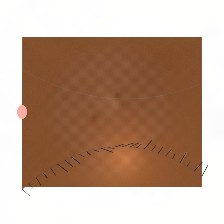pinguecula_lesion: (163, 93, 192, 116)
